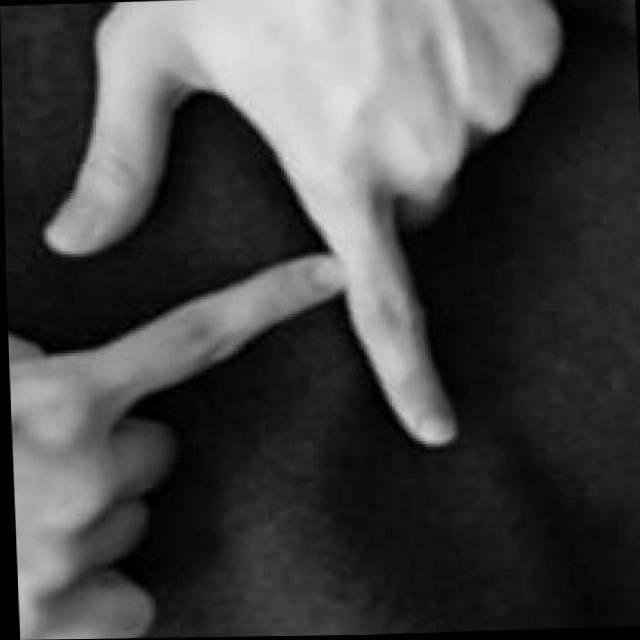F: (0, 0, 464, 640)
